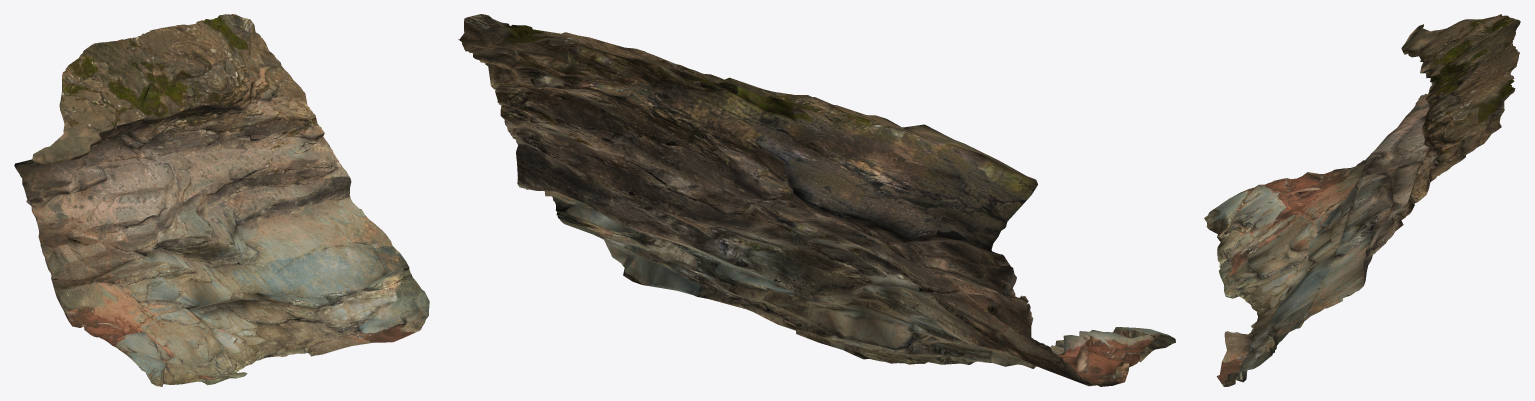
Rendered from cliff_face_01.glb.
3 views of the same model, side by side, from view 1: azimuth 30°, elevation 25°; view 2: azimuth 150°, elevation 25°; view 3: azimuth 270°, elevation 25° (orthographic). The views are drawn at different scales.
Parts seen in each view (by area): view 1: cliff_face_01; view 2: cliff_face_01; view 3: cliff_face_01.
Boxes of the visible parts, x1,y1,x2,y2 form: cliff_face_01: (14, 14, 429, 386); cliff_face_01: (458, 14, 1175, 386); cliff_face_01: (1204, 14, 1520, 386).
Size of the model in its own units: 4.95 by 3.56 by 3.83.
Materials: 1 (1 with a texture image).
